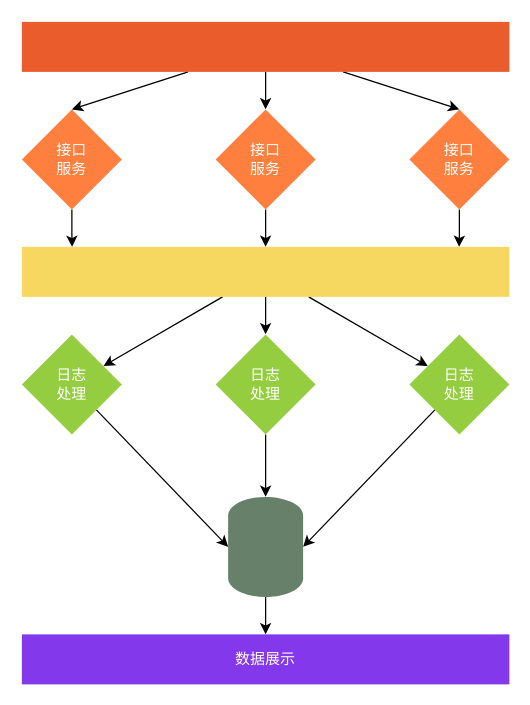
The diagram is 530 pixels wide and 705 high, and some of its shapes have lost their labels. Each missing label, with the box of its shape:
日志 存储: (228, 496, 302, 596)
消息队列: (21, 246, 509, 296)
负载均衡系统: (21, 21, 509, 71)
